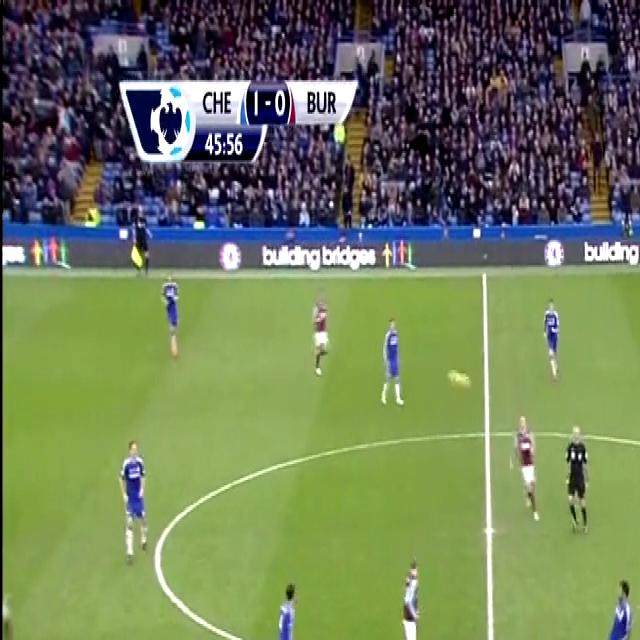ball: (451, 362, 472, 398)
referee: (562, 409, 600, 542), (128, 202, 155, 288)
soccer-player: (112, 427, 153, 568), (507, 398, 543, 531), (378, 308, 408, 412), (393, 549, 425, 640), (594, 569, 635, 640), (160, 269, 188, 365), (308, 286, 335, 383), (538, 290, 564, 384), (267, 569, 300, 640), (639, 578, 640, 640)
